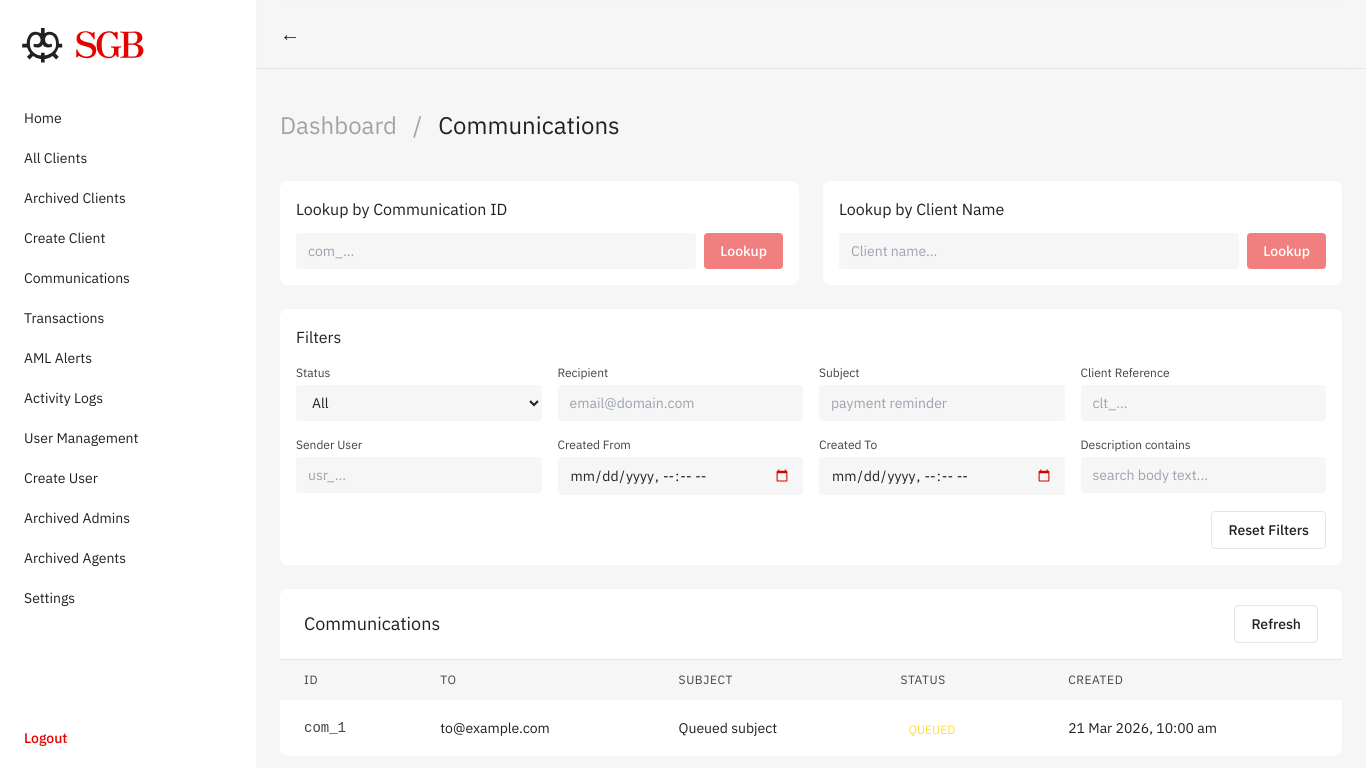
Scenario: AdminCommunications behavior › shows permission error on communication-id lookup 403
The image size is (1366, 768).
Check: the heading "Lookup by Communication ID" is shown, box 296,199 -> 507,219
In the field with placeholder "com_...": (496, 251) 296,233 -> 696,269, type "com_denied"
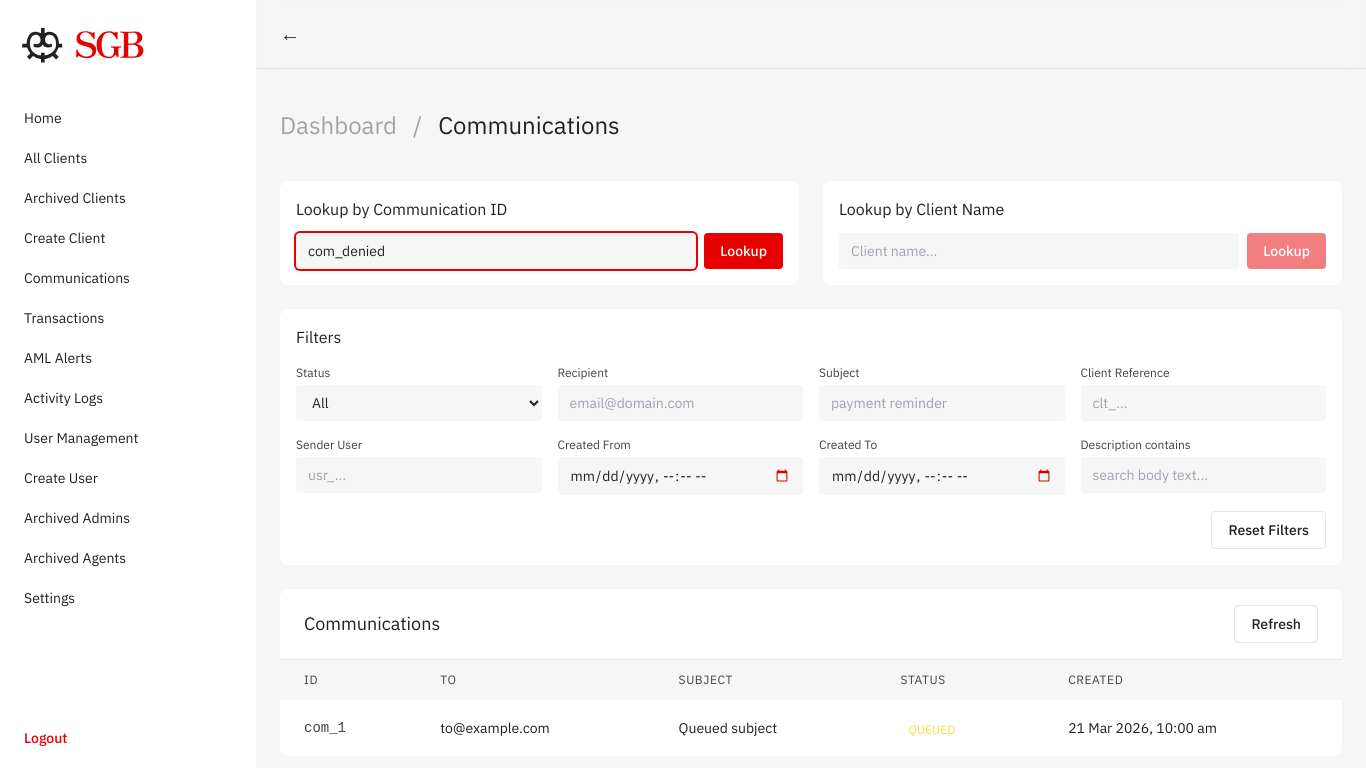
Click the button "Lookup" below "Lookup by Communication ID": (744, 251) 704,233 -> 783,269
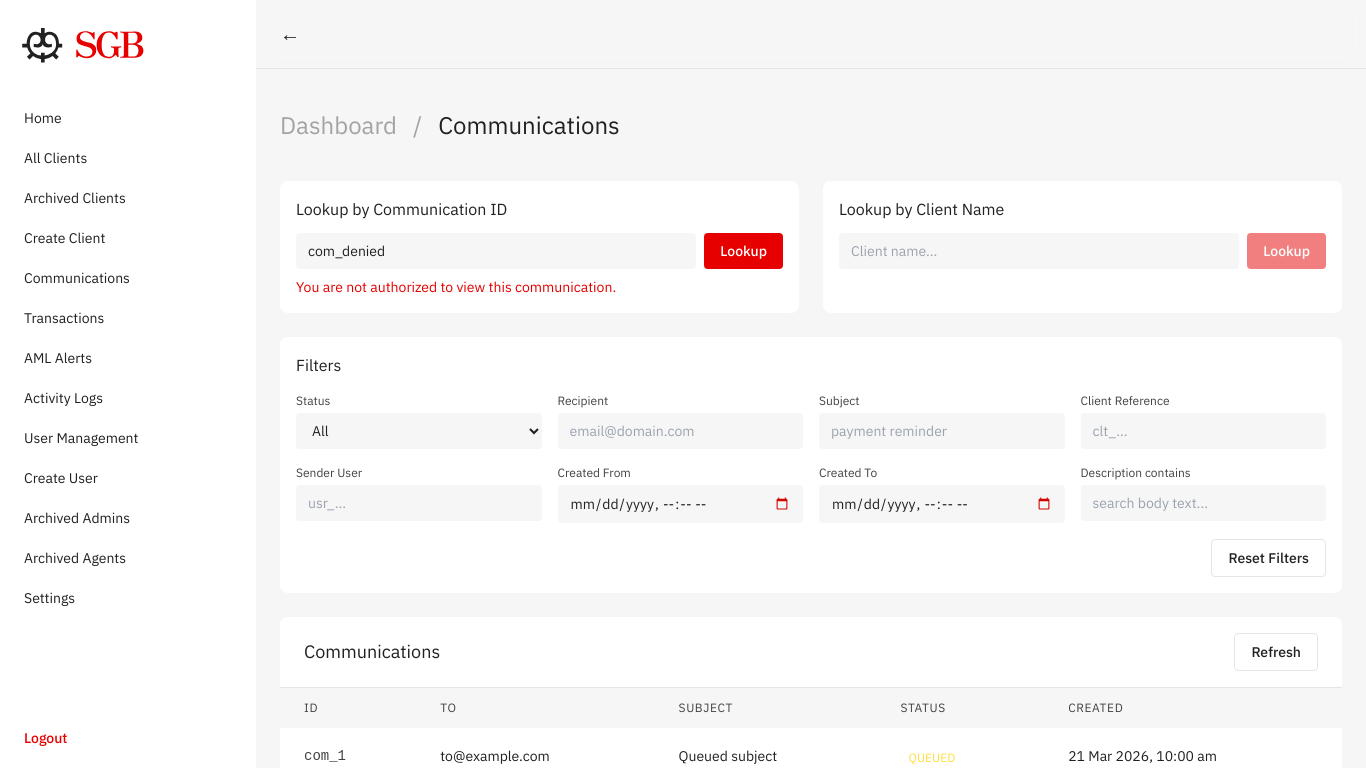
Check: the text "You are not authorized to view this communication." is shown, box 296,278 -> 616,296
